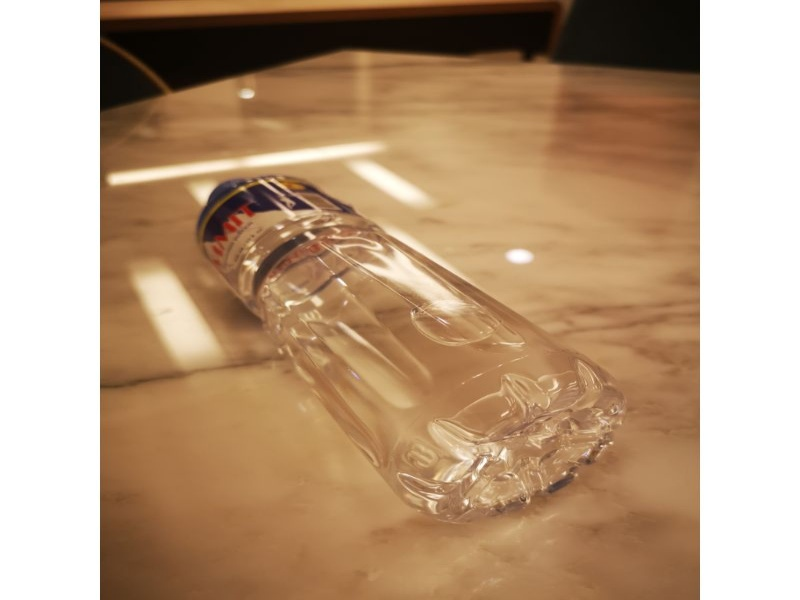PET #1: (198, 172, 631, 529)
